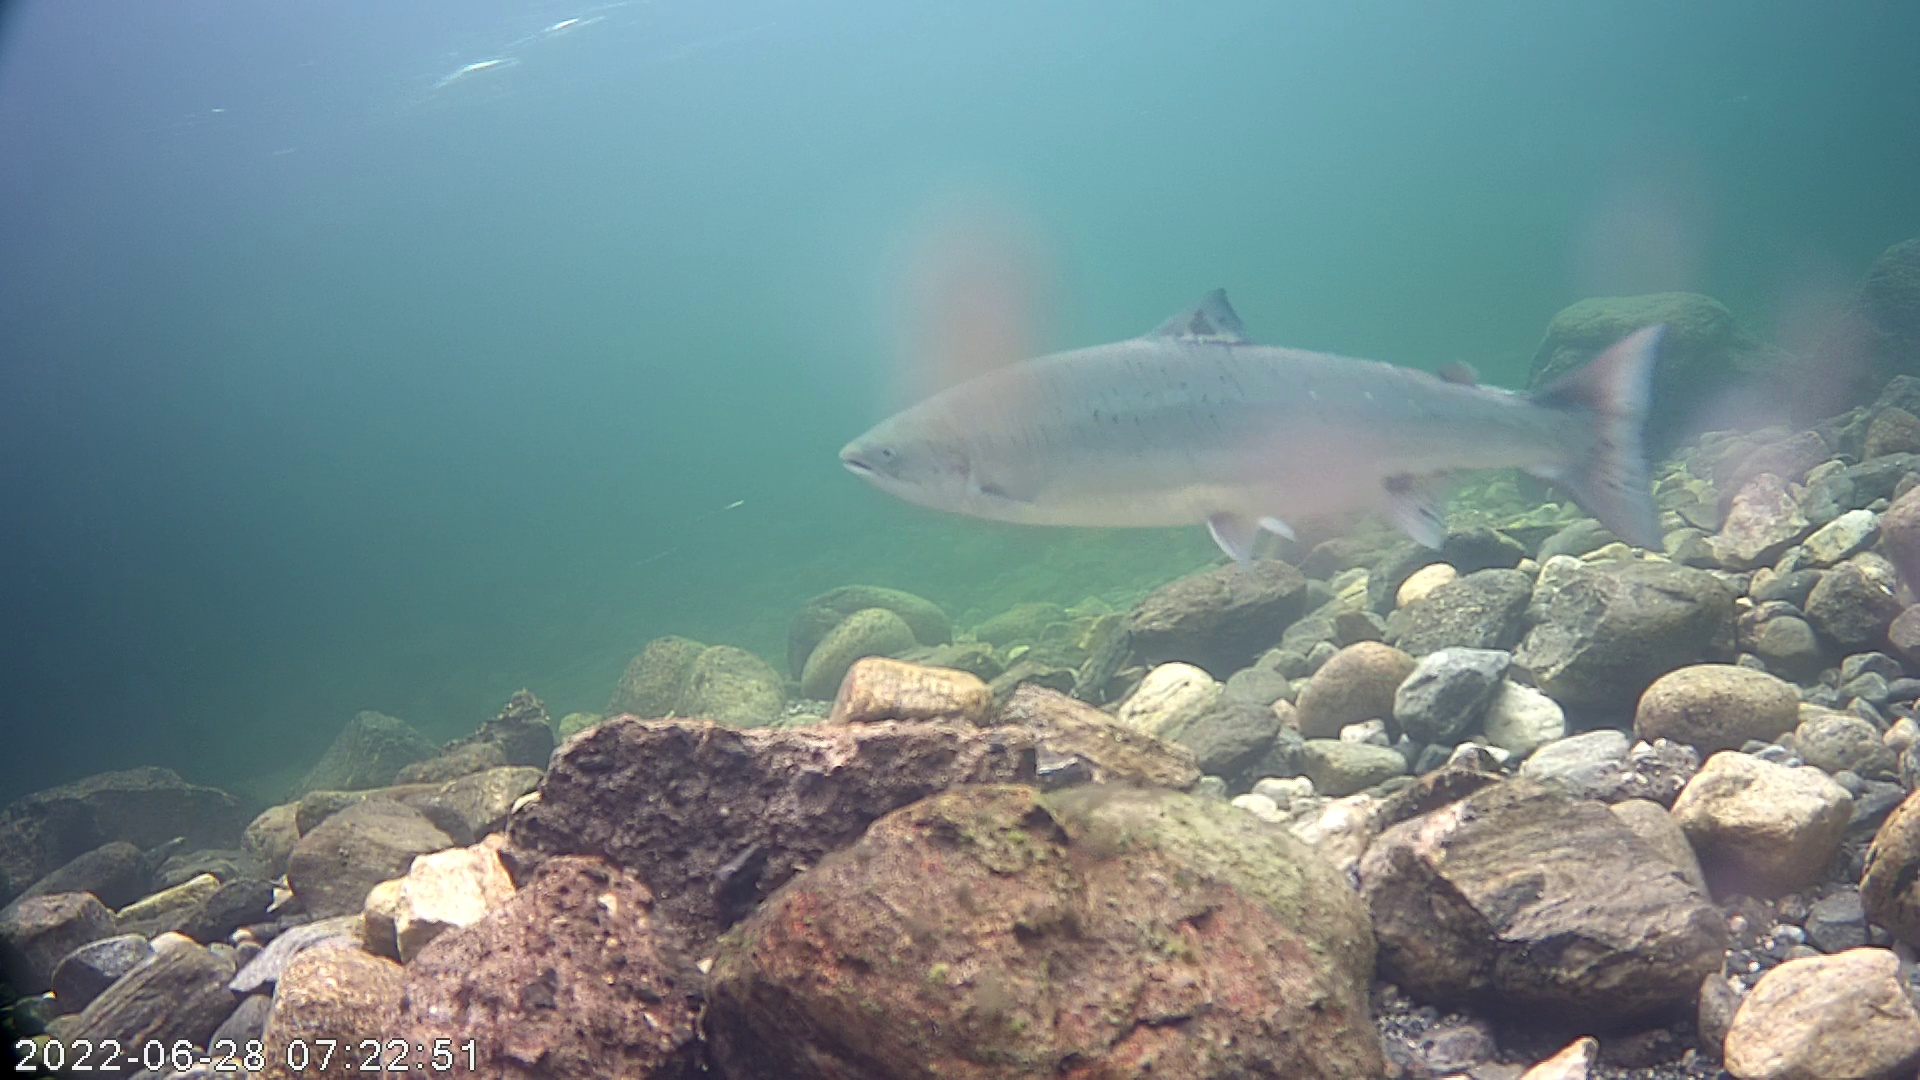salmon: (825, 203, 1697, 626)
